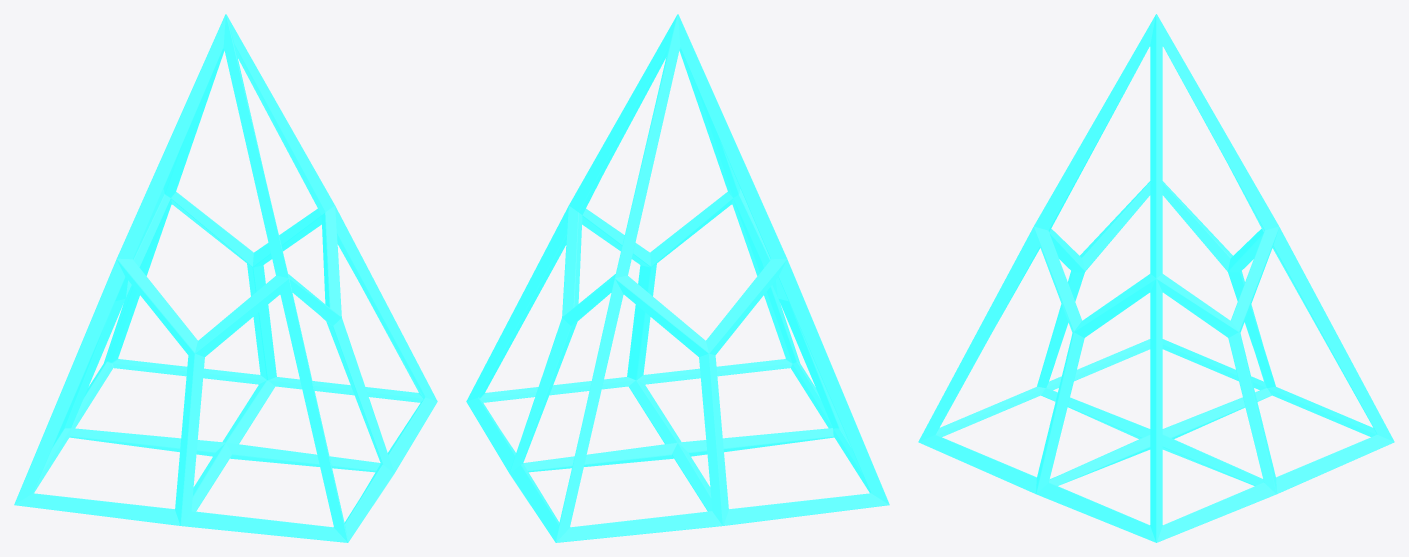
Rendered from Env_MountanS_01.fbx.
The picture shows the model from 3 angles, left to right: view 1: azimuth 30°, elevation 25°; view 2: azimuth 150°, elevation 25°; view 3: azimuth 270°, elevation 25°; orthographic projection. The views are drawn at different scales.
Visible parts, largest first — view 1: Env_MountanS_01.001; view 2: Env_MountanS_01.001; view 3: Env_MountanS_01.001.
Part boxes in pixels (bbox=[...]): Env_MountanS_01.001: bbox=[14, 14, 437, 542]; Env_MountanS_01.001: bbox=[466, 14, 889, 542]; Env_MountanS_01.001: bbox=[918, 14, 1394, 542].
Size of the model in its own units: 82.44 by 82.64 by 82.44.
